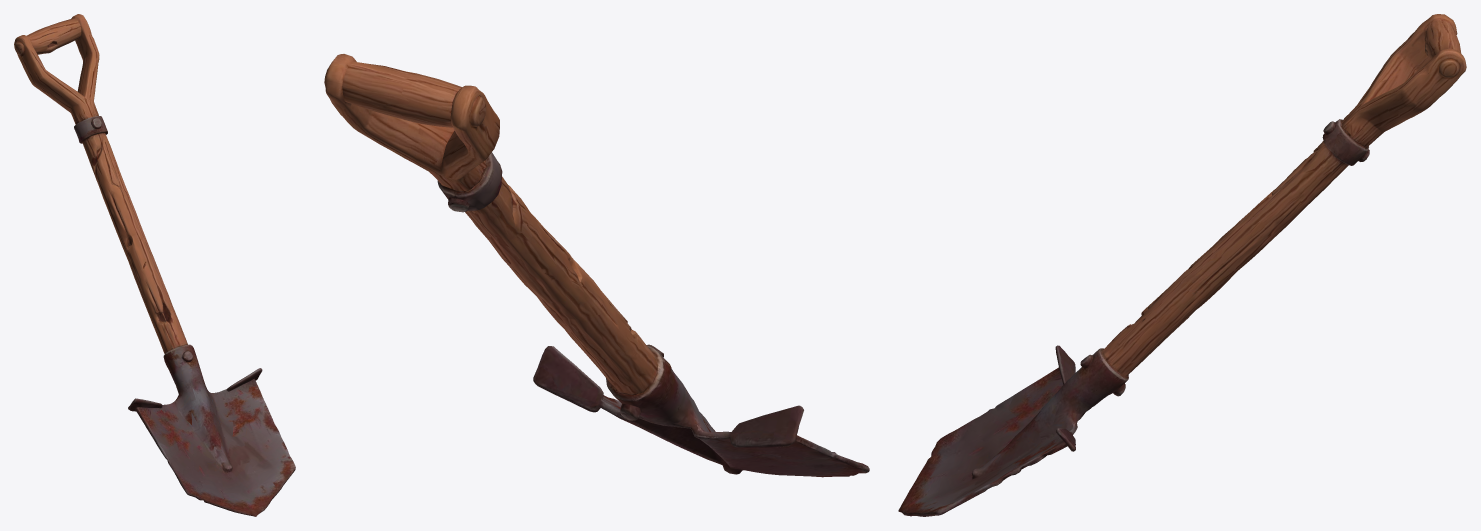
File: tool_shovel_shtykovaya_idle.glb
3 views of the same model, side by side, from view 1: azimuth 30°, elevation 25°; view 2: azimuth 150°, elevation 25°; view 3: azimuth 270°, elevation 25° (orthographic). The views are drawn at different scales.
Parts seen in each view (by area): view 1: tripo_node_1b2c92c5-553f-4295-bad5-0fe477525b1a; view 2: tripo_node_1b2c92c5-553f-4295-bad5-0fe477525b1a; view 3: tripo_node_1b2c92c5-553f-4295-bad5-0fe477525b1a.
Part boxes in pixels (bbox=[...]): tripo_node_1b2c92c5-553f-4295-bad5-0fe477525b1a: bbox=[14, 14, 295, 516]; tripo_node_1b2c92c5-553f-4295-bad5-0fe477525b1a: bbox=[324, 54, 869, 477]; tripo_node_1b2c92c5-553f-4295-bad5-0fe477525b1a: bbox=[898, 14, 1466, 516].
Size of the model in its own units: 0.4305 by 1.1 by 1.18.
Materials: 1 (1 with a texture image).
